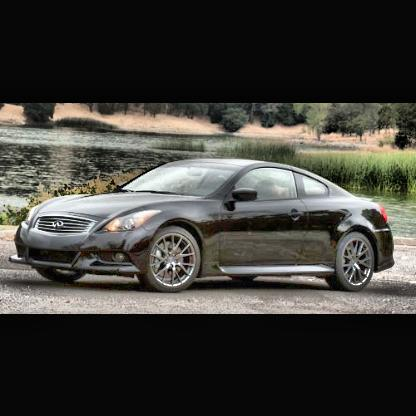Infiniti G Coupe IPL 2012: (10, 157, 399, 295)
